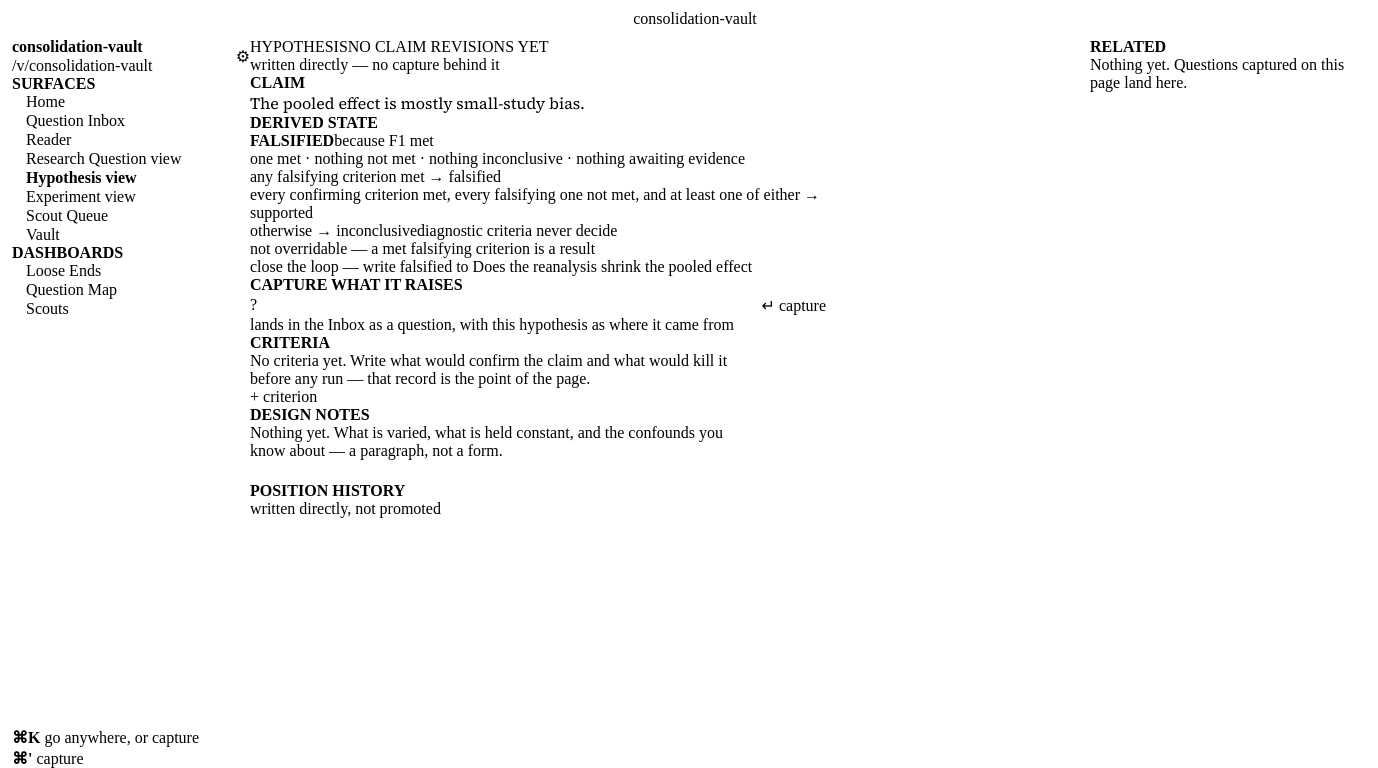
Test: the follow-up question › keeps the text and says why when the capture is refused
In the field named "Follow-up question": (509, 305) [257,294,762,316], type "What next?"
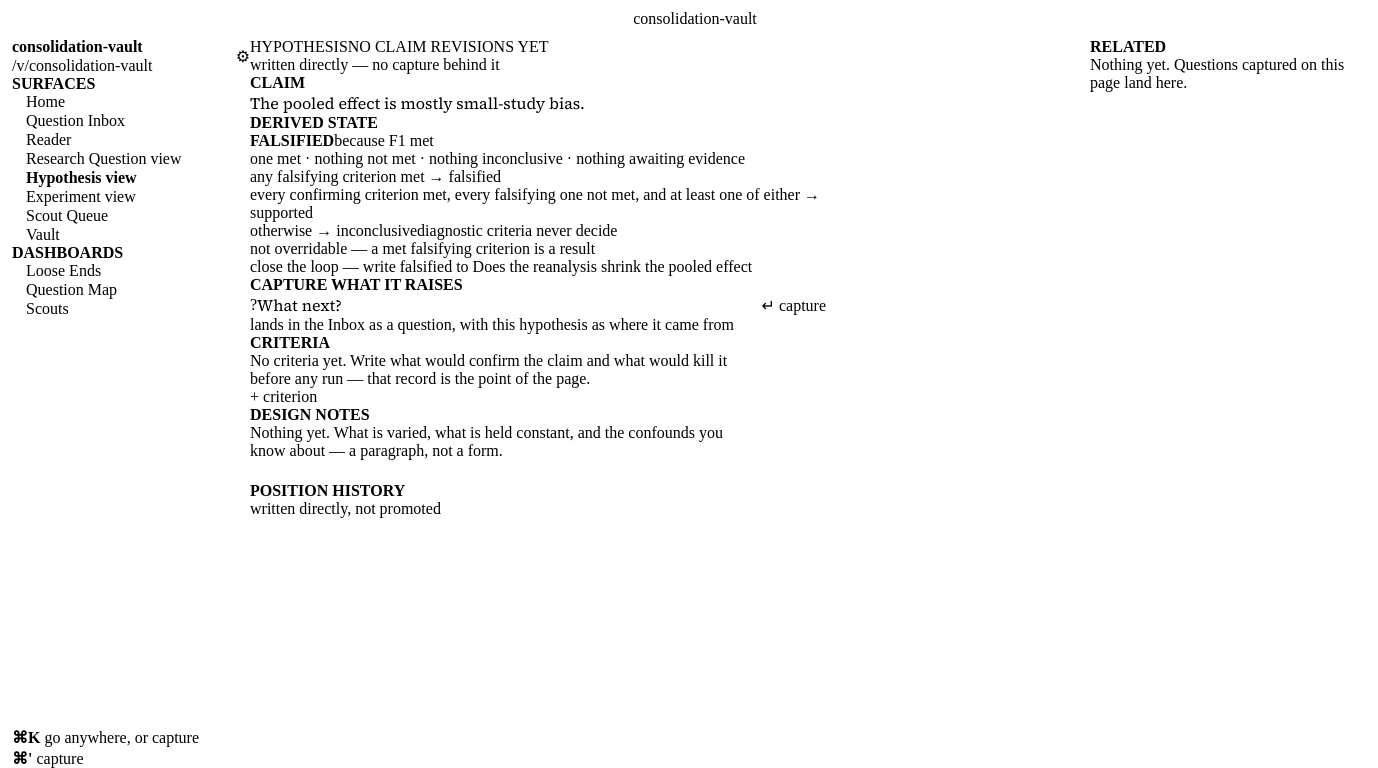
Press Enter in the field named "Follow-up question", box [257,294,762,316]
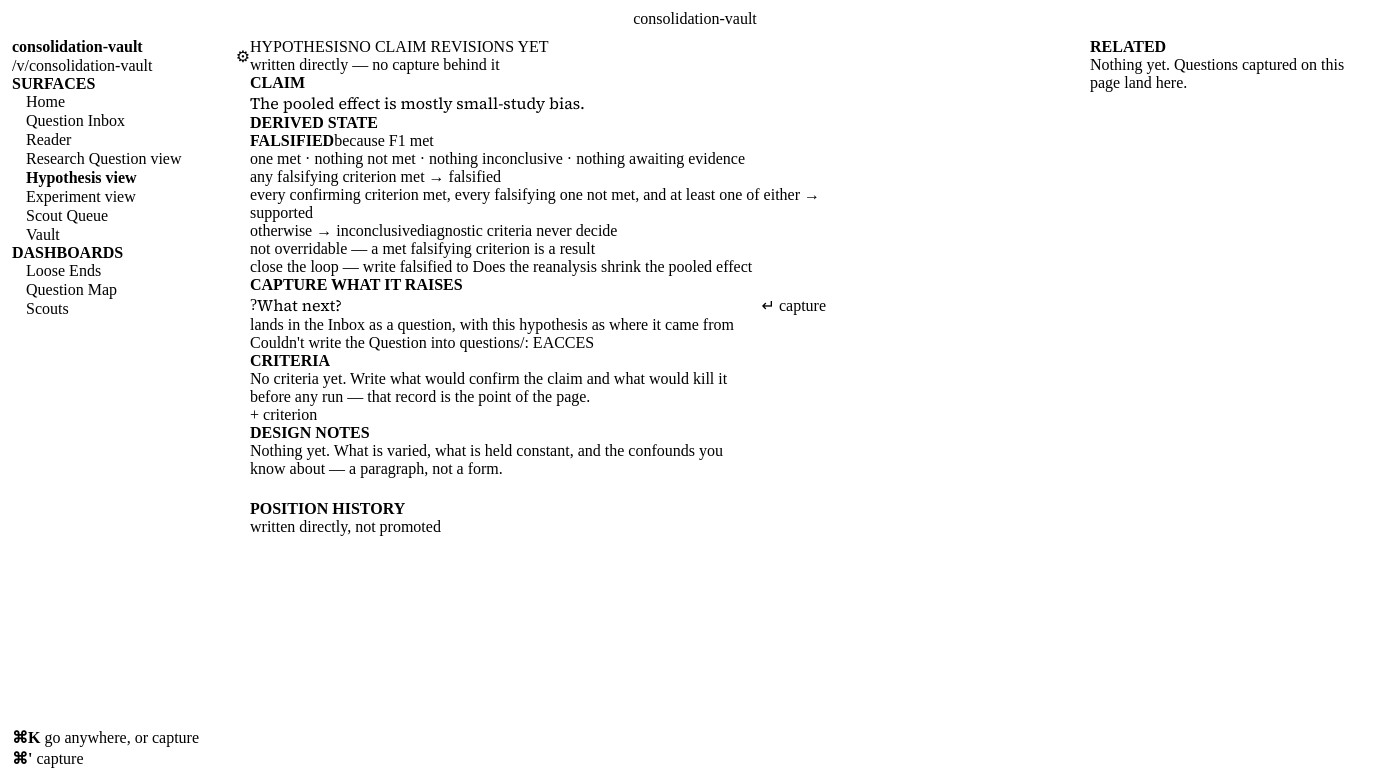
Now the message "Couldn't write the Question into questions/: EACCES" is shown, box [250,334,594,351]
